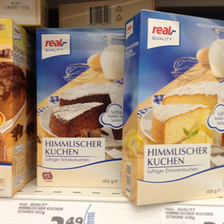cake: (124, 9, 224, 208), (35, 26, 123, 190)
